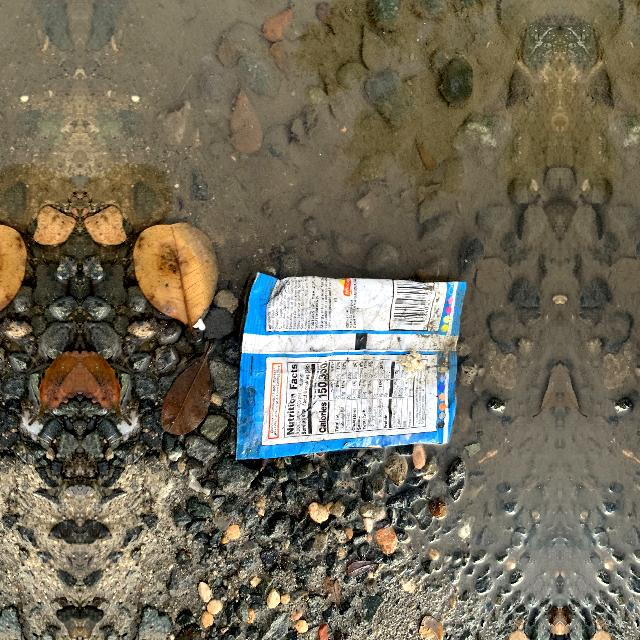Plastic: (228, 263, 490, 465)
